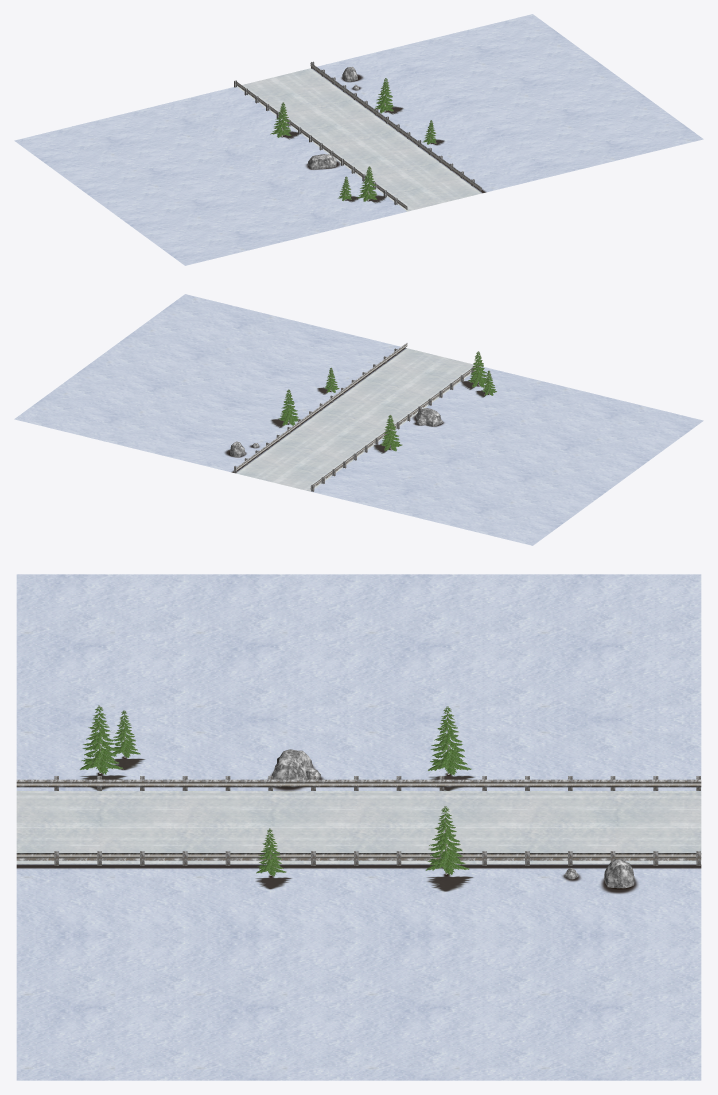
3 renders of one model, top to bottom at view 1: azimuth 30°, elevation 25°; view 2: azimuth 150°, elevation 25°; view 3: azimuth 270°, elevation 25°, orthographic. The views are drawn at different scales.
Parts seen in each view (by area): view 1: scene1, road, Box033, rock1; view 2: scene1, road, Box033, rock1; view 3: scene1, road, Box033, rock1.
Part boxes in pixels (x1,y1,x2,y2): scene1: (14, 14, 703, 265); road: (234, 61, 481, 211); Box033: (270, 78, 436, 201); rock1: (307, 67, 359, 169); scene1: (14, 294, 703, 545); road: (234, 343, 481, 491); Box033: (278, 351, 496, 451); rock1: (230, 408, 442, 457); scene1: (16, 574, 701, 1080); road: (16, 776, 701, 865); Box033: (79, 705, 471, 876); rock1: (272, 749, 635, 888).
Size of the model in its own units: 140 by 9.35 by 80.
